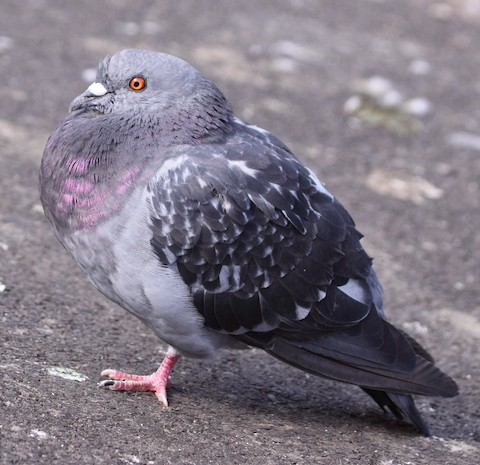pigeon: (36, 41, 460, 443)
